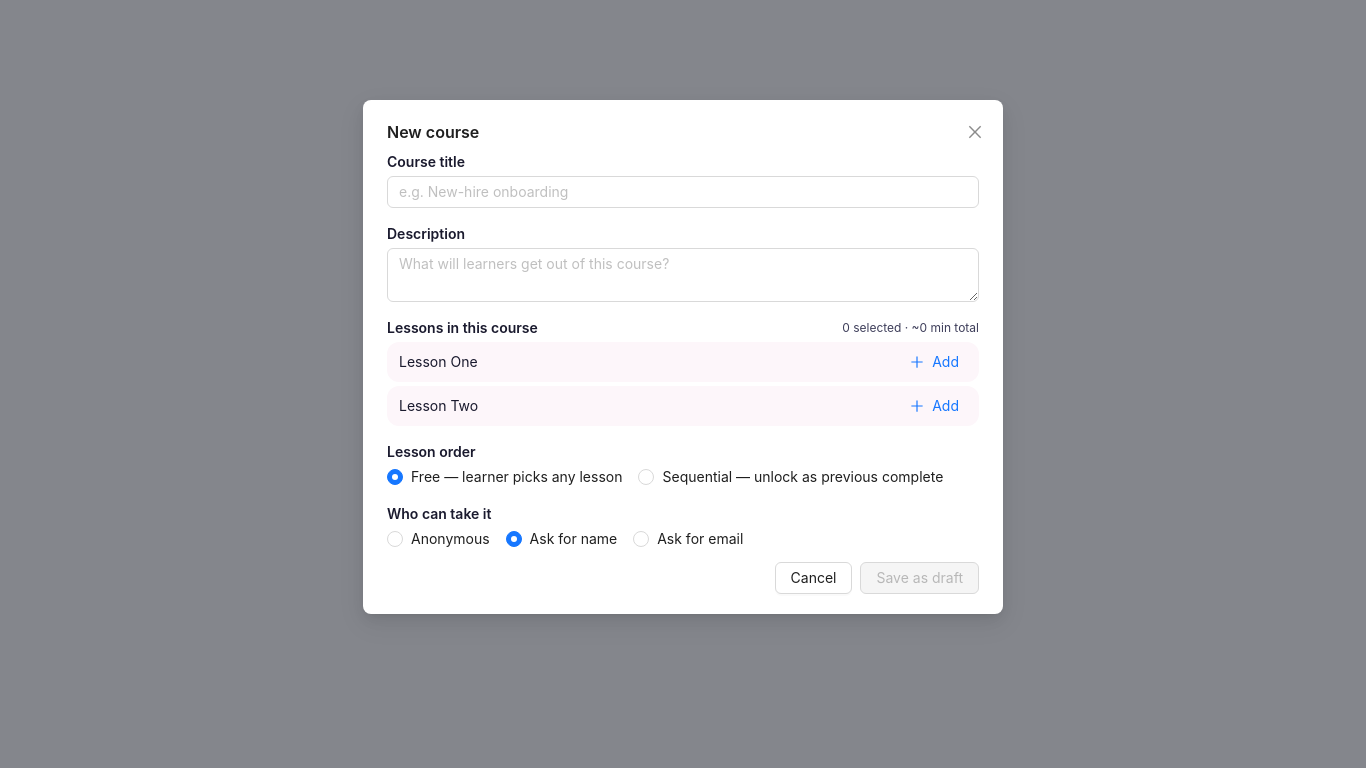
it: NewCourseModal.vue › adds a lesson to the picked set and shows total duration
Click the button with test id "add-lesson" in the row of "Lesson One". click: (935, 362)
box: left=902, top=350, right=967, bottom=374
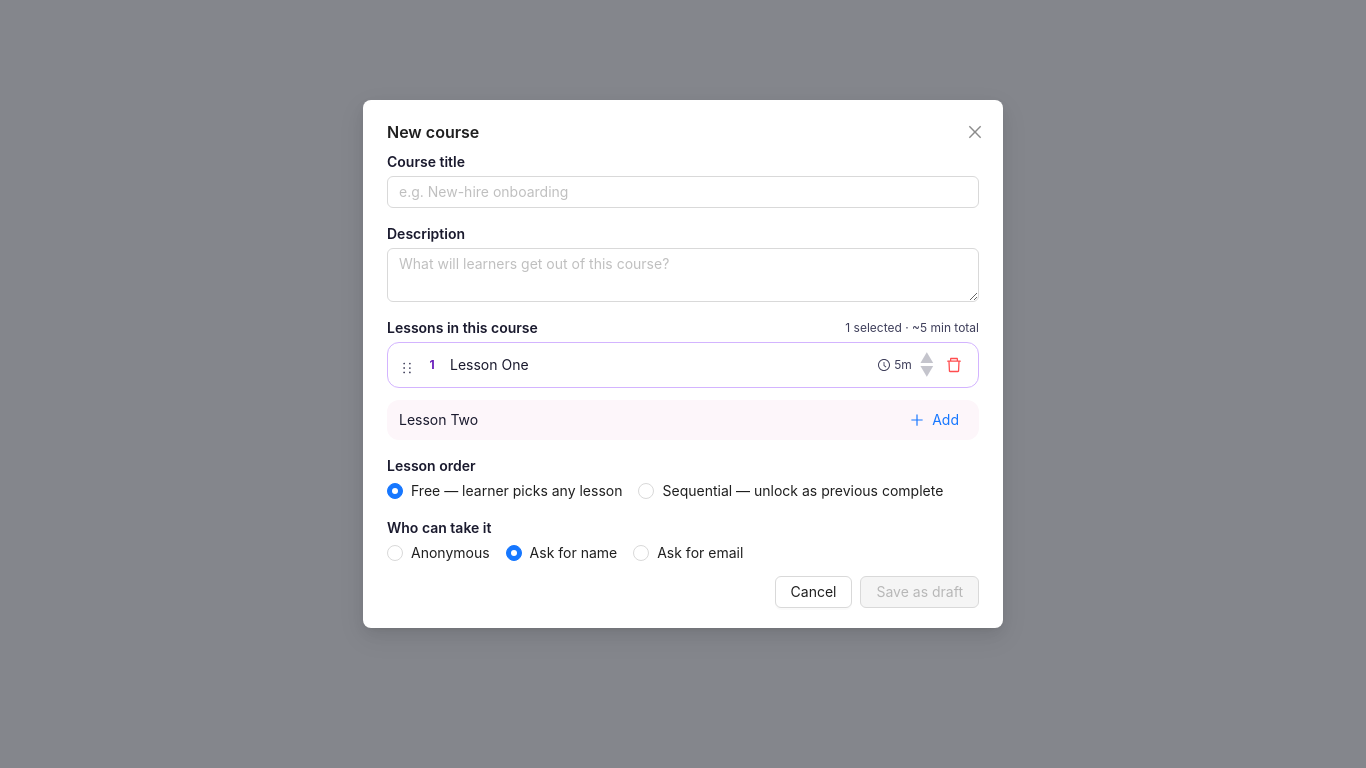
Expected: the number of list items with test id "picked-lesson" is 1, left=387, top=342, right=979, bottom=388
Expected: the text "1 selected" is shown, left=845, top=320, right=979, bottom=335
